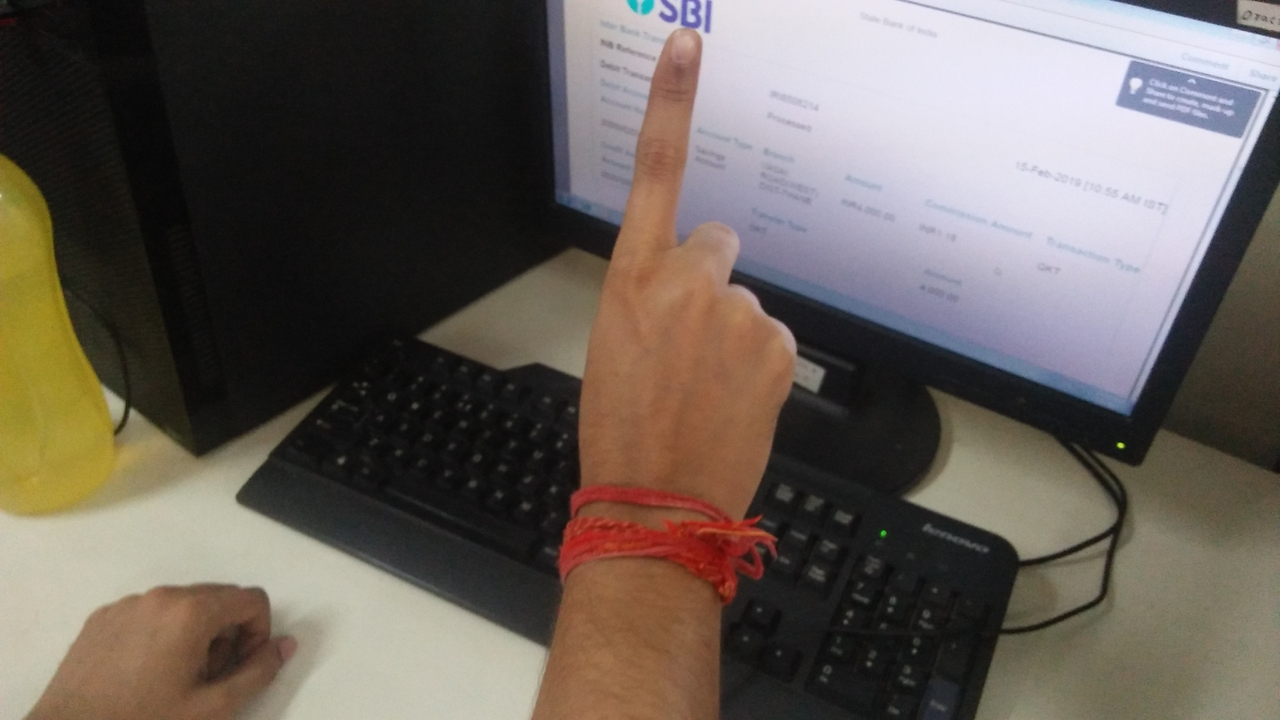fingertip: (654, 22, 708, 70)
